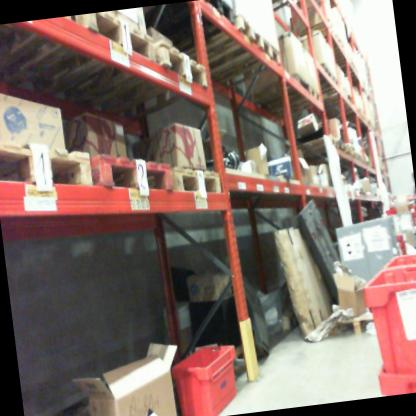pallet: (25, 9, 154, 110), (85, 37, 208, 126), (0, 127, 96, 210), (0, 17, 85, 85), (92, 150, 175, 203), (156, 0, 236, 53), (198, 18, 261, 67), (213, 40, 282, 81), (174, 157, 222, 204), (336, 301, 377, 338)
small_load_carrier: (360, 257, 416, 379), (168, 336, 246, 416), (372, 359, 416, 394), (385, 244, 416, 269)
